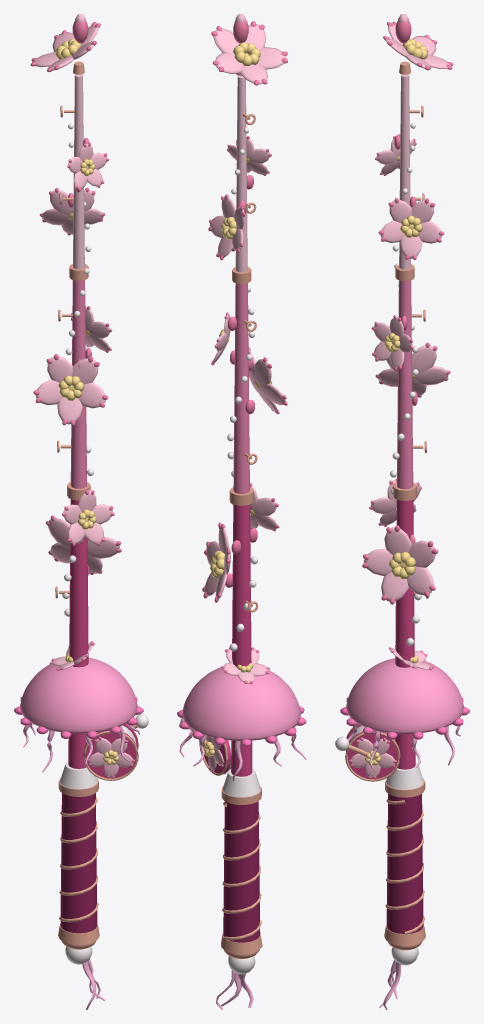
Rendered from SakuraJellyRod.glb.
3 renders of one model, left to right at view 1: azimuth 90°, elevation 25°; view 2: azimuth 210°, elevation 25°; view 3: azimuth 270°, elevation 25°, orthographic.
Parts seen in each view (by area): view 1: SakuraJellyRod__Petal, SakuraJellyRod__Bell, SakuraJellyRod__Wrap, SakuraJellyRod__PoleDeep, SakuraJellyRod__RoseGold, SakuraJellyRod__PolePink, SakuraJellyRod__Pearl, SakuraJellyRod__PetalDeep, SakuraJellyRod__PolePearl, SakuraJellyRod__Stamen, SakuraJellyRod__Tentacle, SakuraJellyRod__Frill; view 2: SakuraJellyRod__Petal, SakuraJellyRod__Bell, SakuraJellyRod__Wrap, SakuraJellyRod__PoleDeep, SakuraJellyRod__RoseGold, SakuraJellyRod__PolePink, SakuraJellyRod__PetalDeep, SakuraJellyRod__Pearl, SakuraJellyRod__PolePearl, SakuraJellyRod__Stamen, SakuraJellyRod__Tentacle, SakuraJellyRod__Frill; view 3: SakuraJellyRod__Petal, SakuraJellyRod__Bell, SakuraJellyRod__Wrap, SakuraJellyRod__RoseGold, SakuraJellyRod__PoleDeep, SakuraJellyRod__PolePink, SakuraJellyRod__PetalDeep, SakuraJellyRod__Pearl, SakuraJellyRod__Stamen, SakuraJellyRod__PolePearl, SakuraJellyRod__Tentacle, SakuraJellyRod__Frill.
Part boxes in pixels (x1,y1,x2,y2): SakuraJellyRod__Petal: (32, 14, 133, 777); SakuraJellyRod__Bell: (20, 657, 137, 733); SakuraJellyRod__Wrap: (60, 793, 97, 933); SakuraJellyRod__PoleDeep: (68, 499, 138, 778); SakuraJellyRod__RoseGold: (55, 61, 138, 949); SakuraJellyRod__PolePink: (70, 280, 86, 488); SakuraJellyRod__Pearl: (60, 123, 148, 964); SakuraJellyRod__PetalDeep: (30, 21, 135, 778); SakuraJellyRod__PolePearl: (73, 74, 84, 269); SakuraJellyRod__Stamen: (55, 39, 119, 764); SakuraJellyRod__Tentacle: (23, 724, 139, 1009); SakuraJellyRod__Frill: (14, 697, 143, 738); SakuraJellyRod__Petal: (200, 14, 286, 770); SakuraJellyRod__Bell: (182, 667, 300, 740); SakuraJellyRod__Wrap: (223, 801, 260, 942); SakuraJellyRod__PoleDeep: (204, 504, 252, 776); SakuraJellyRod__RoseGold: (193, 73, 262, 958); SakuraJellyRod__PolePink: (233, 283, 249, 493); SakuraJellyRod__PetalDeep: (200, 20, 287, 772); SakuraJellyRod__Pearl: (180, 128, 260, 974); SakuraJellyRod__PolePearl: (235, 75, 247, 272); SakuraJellyRod__Stamen: (204, 42, 272, 757); SakuraJellyRod__Tentacle: (179, 726, 306, 1009); SakuraJellyRod__Frill: (177, 706, 306, 747); SakuraJellyRod__Petal: (350, 14, 451, 778); SakuraJellyRod__Bell: (346, 658, 463, 733); SakuraJellyRod__Wrap: (386, 793, 423, 933); SakuraJellyRod__RoseGold: (345, 61, 428, 950); SakuraJellyRod__PoleDeep: (345, 499, 415, 779); SakuraJellyRod__PolePink: (397, 280, 413, 489); SakuraJellyRod__PetalDeep: (348, 21, 453, 779); SakuraJellyRod__Pearl: (335, 123, 423, 965); SakuraJellyRod__Stamen: (365, 39, 428, 765); SakuraJellyRod__PolePearl: (399, 74, 410, 269); SakuraJellyRod__Tentacle: (348, 725, 460, 1009); SakuraJellyRod__Frill: (340, 697, 469, 739).
Bounding box in the file's own units: 0.7854 × 6.79 × 0.8378.
